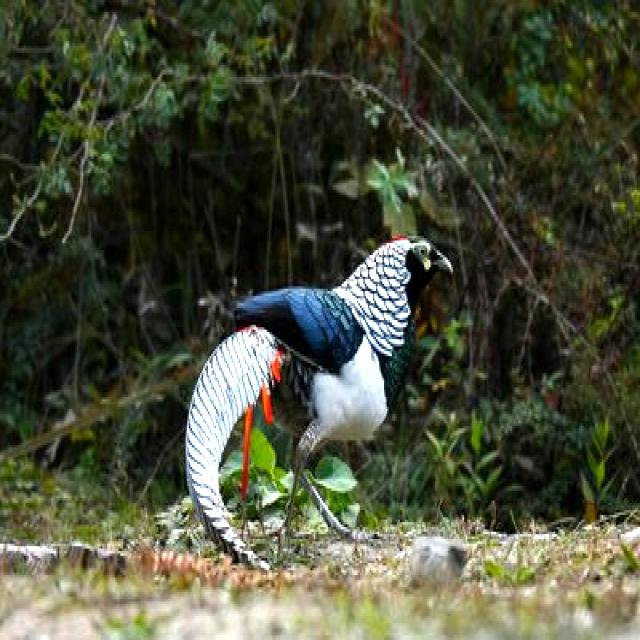Chrysolophus amherstiae: (186, 330, 275, 553)
